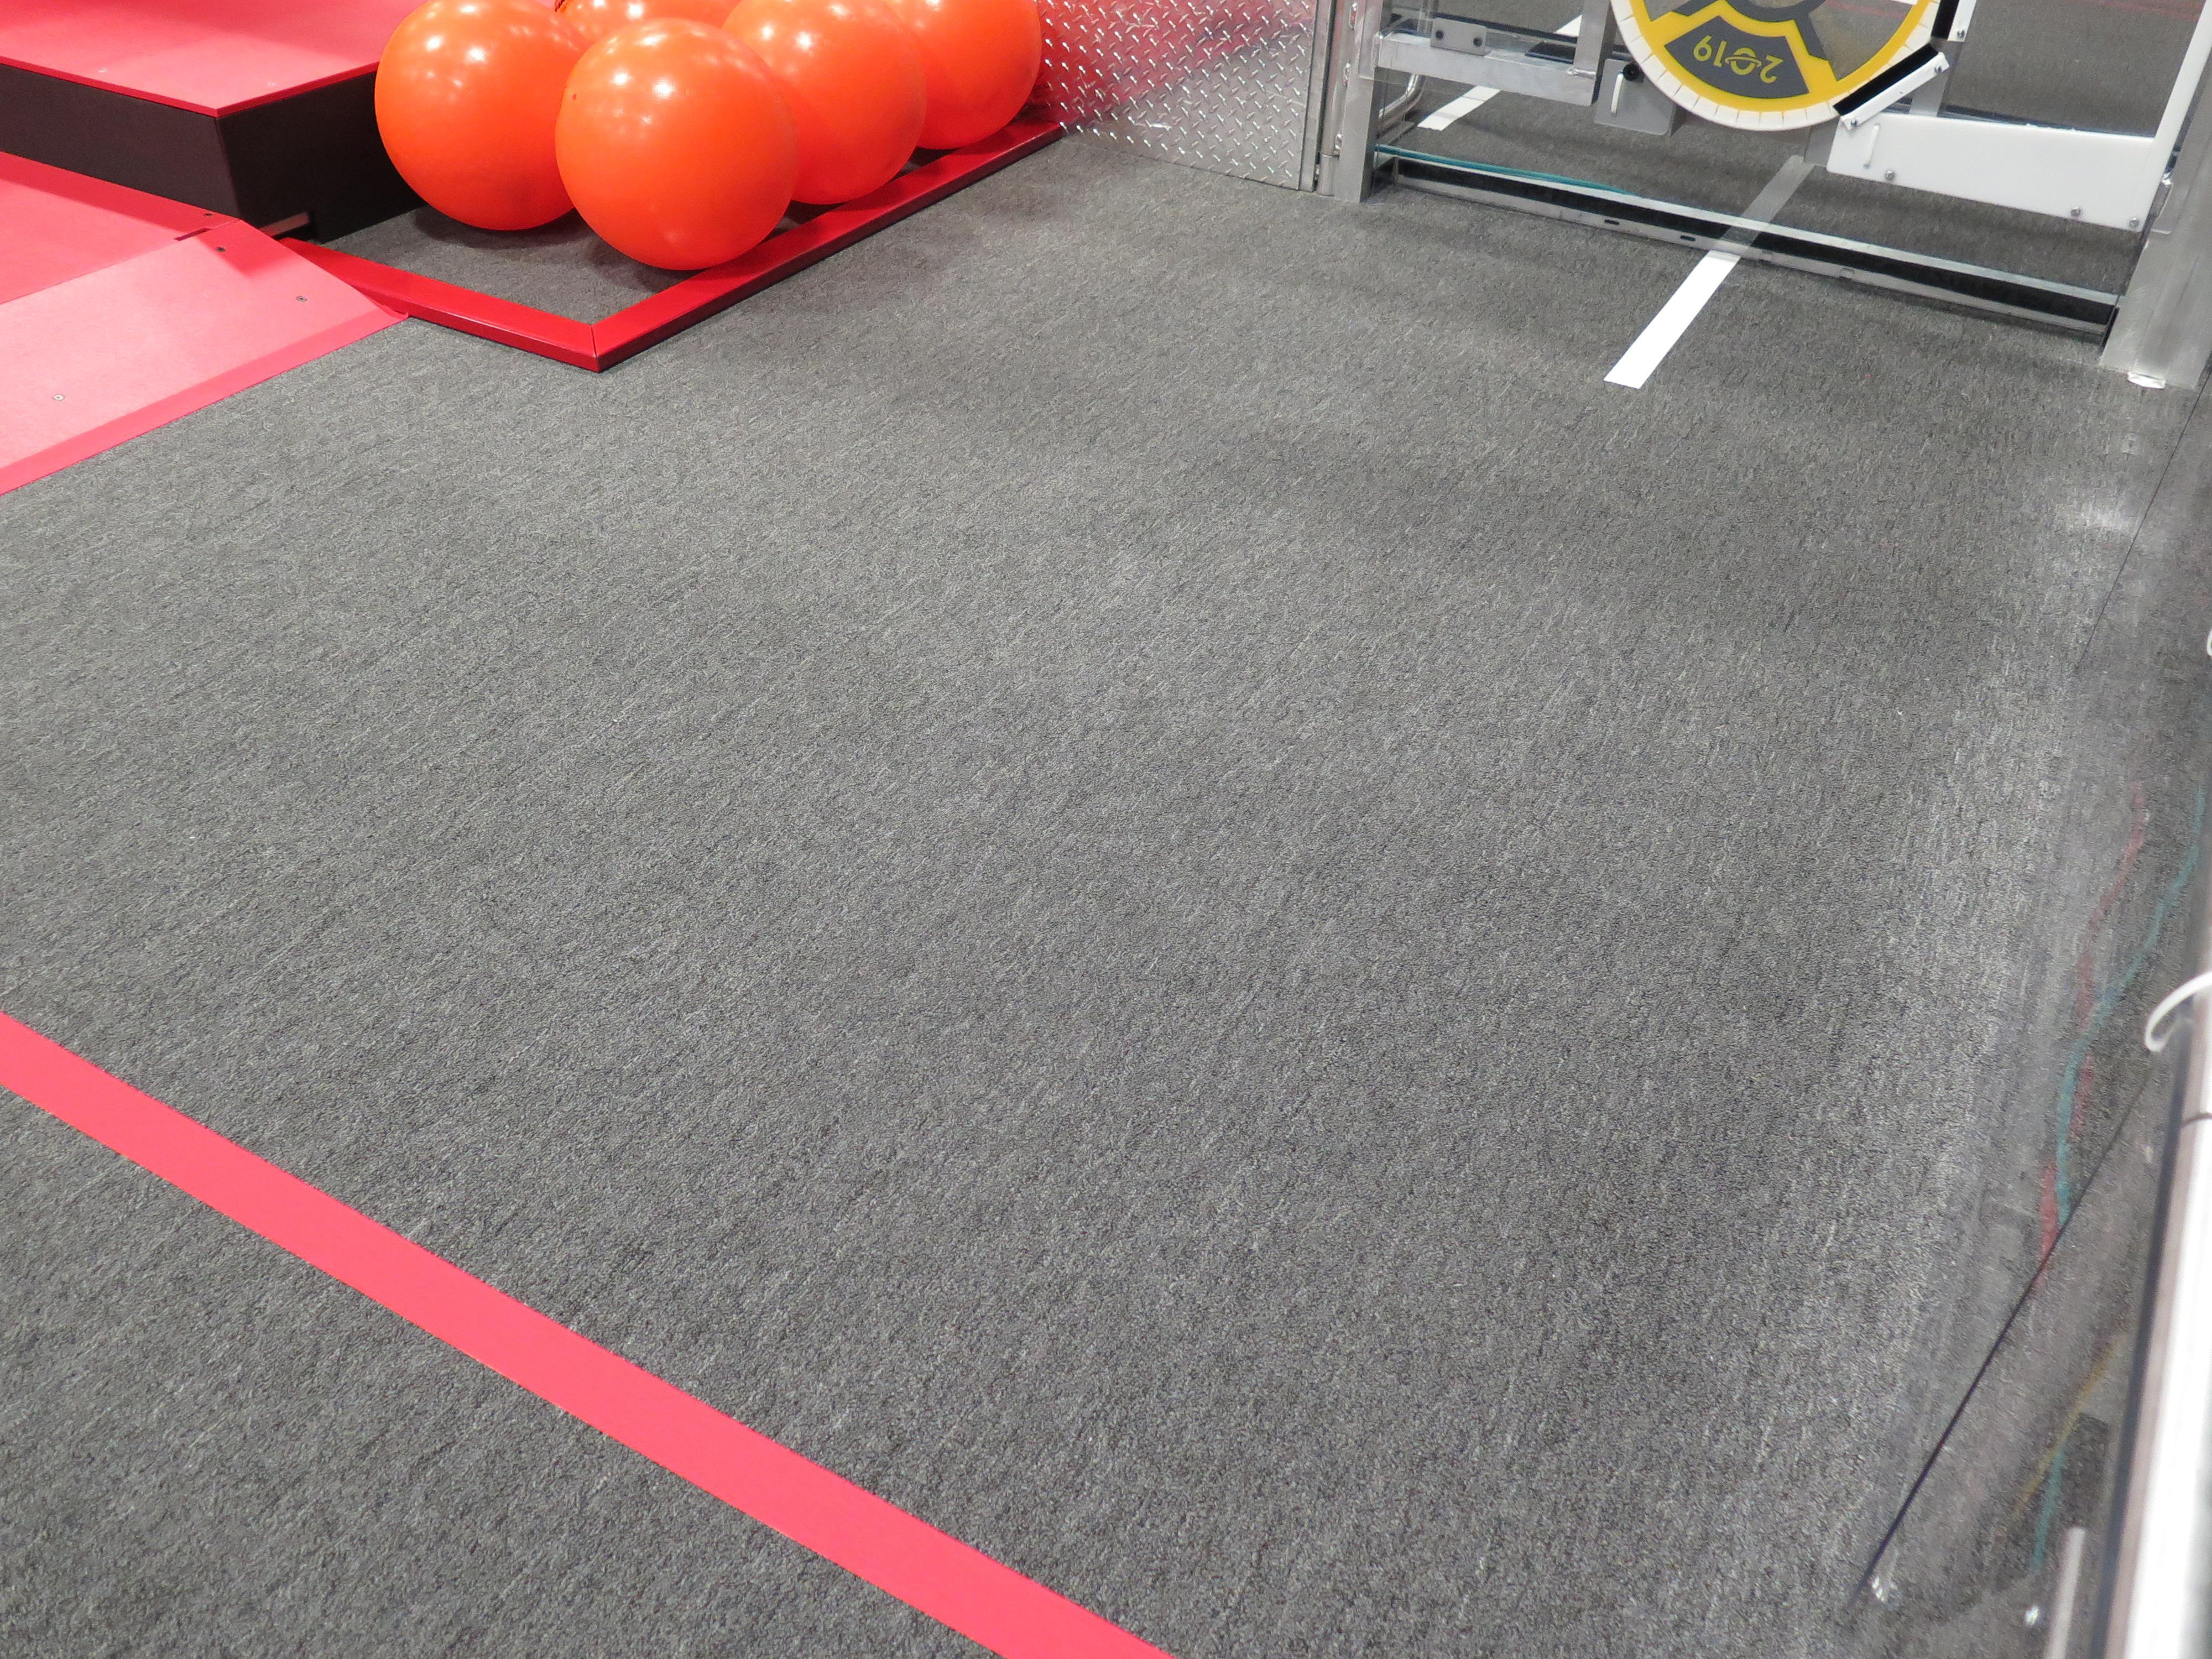Ball: (552, 17, 803, 272), (369, 0, 587, 228), (721, 0, 918, 202), (895, 0, 1047, 150)
Hatch: (1606, 0, 1956, 132)
